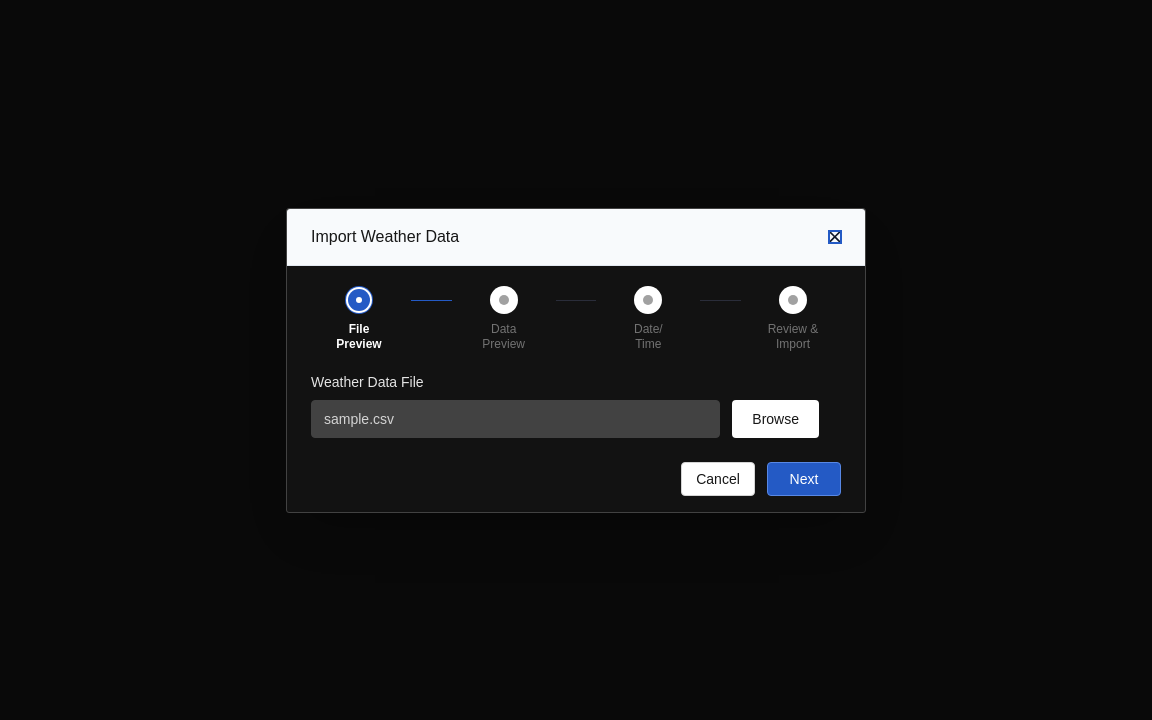
Scenario: <ImportWizard /> › shows the importError banner only on the Review & Import step
Expected: the text "Import failed" is not shown
// Walk to the Review & Import step (1 → 2 → 3 → 4).
What coordinates should you click on to do the following:
click the button "Next"
I would click on:
 (804, 478)
Its box is [767,462,841,496].
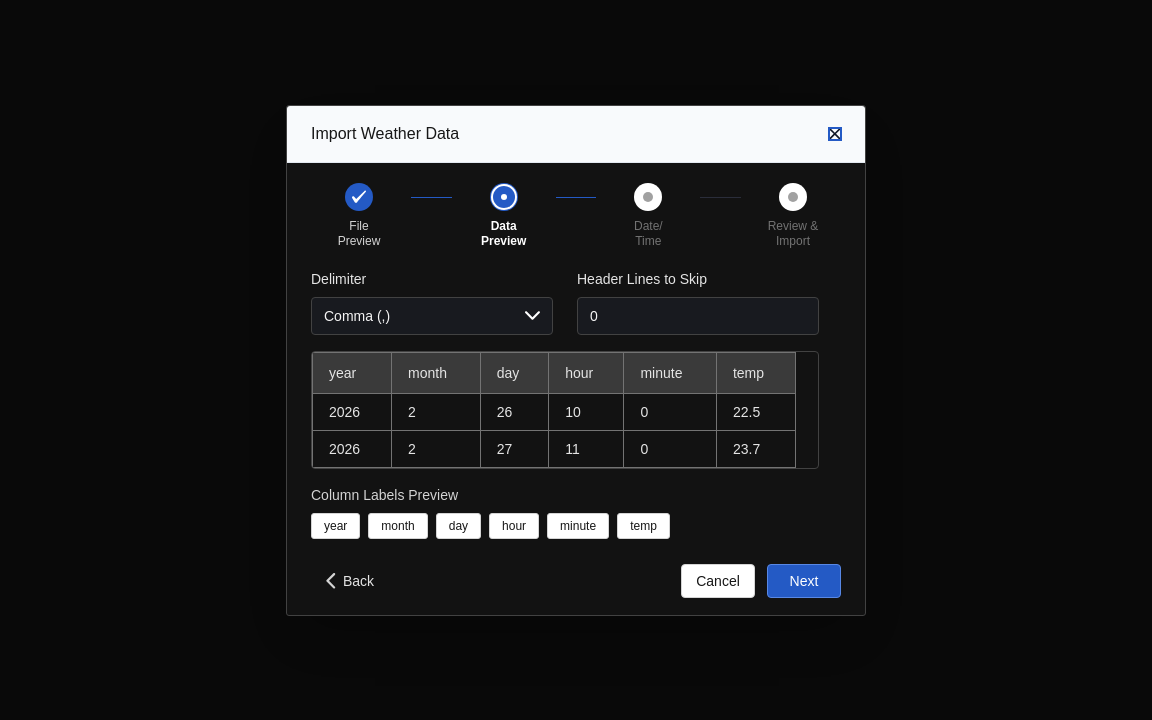
What coordinates should you click on to do the following:
click the button "Next"
I would click on:
 (804, 580)
Its box is [767,564,841,598].
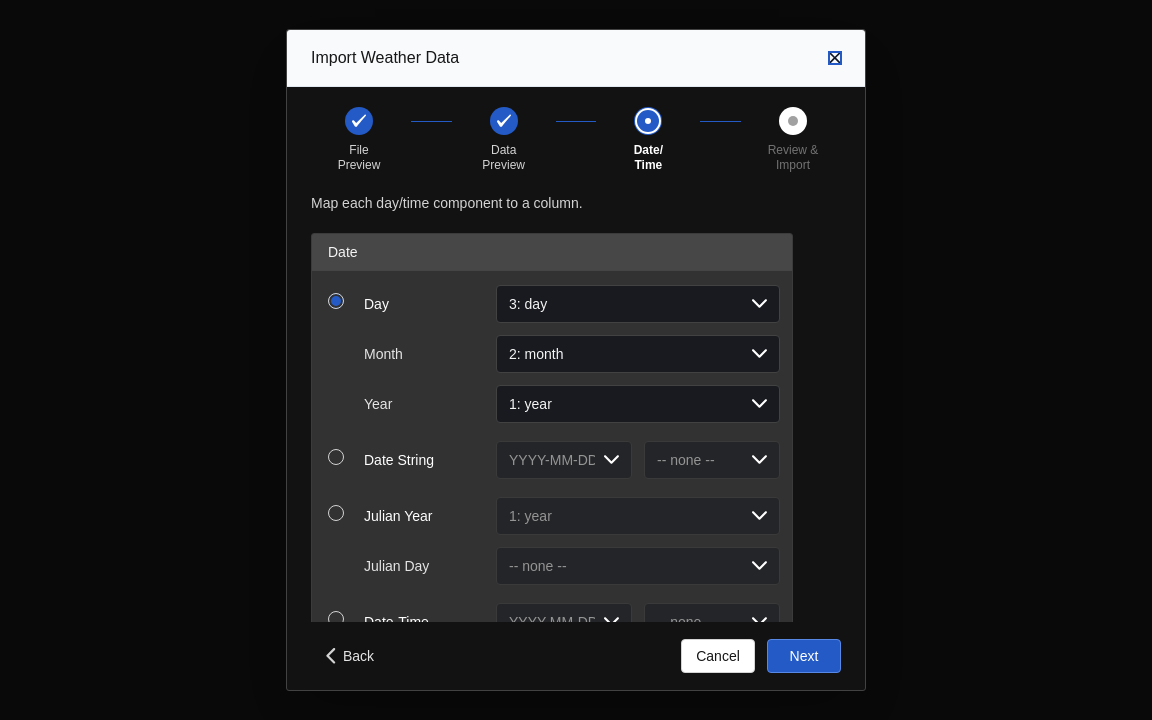
What coordinates should you click on to do the following:
click the button "Next"
I would click on:
 (804, 656)
Its box is [767,639,841,673].
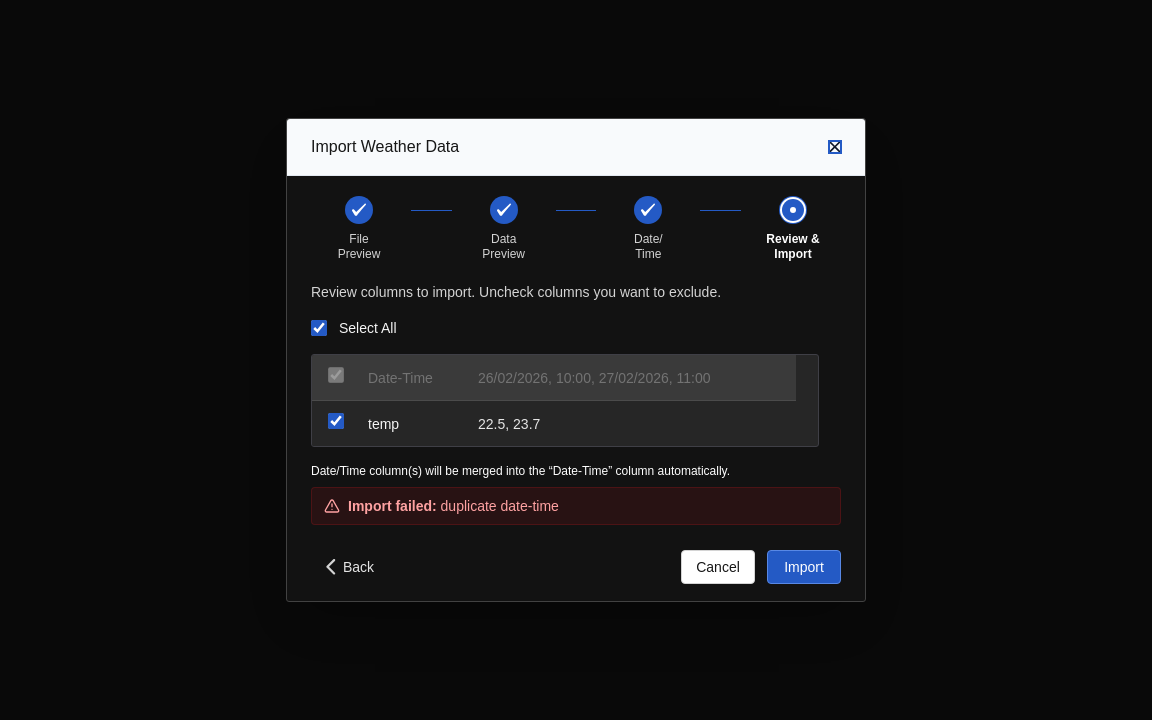
Now the text "Import failed:" is shown, box [348,498,441,514]
Now the text "Import failed: duplicate date-time" is shown, box [348,496,559,516]
